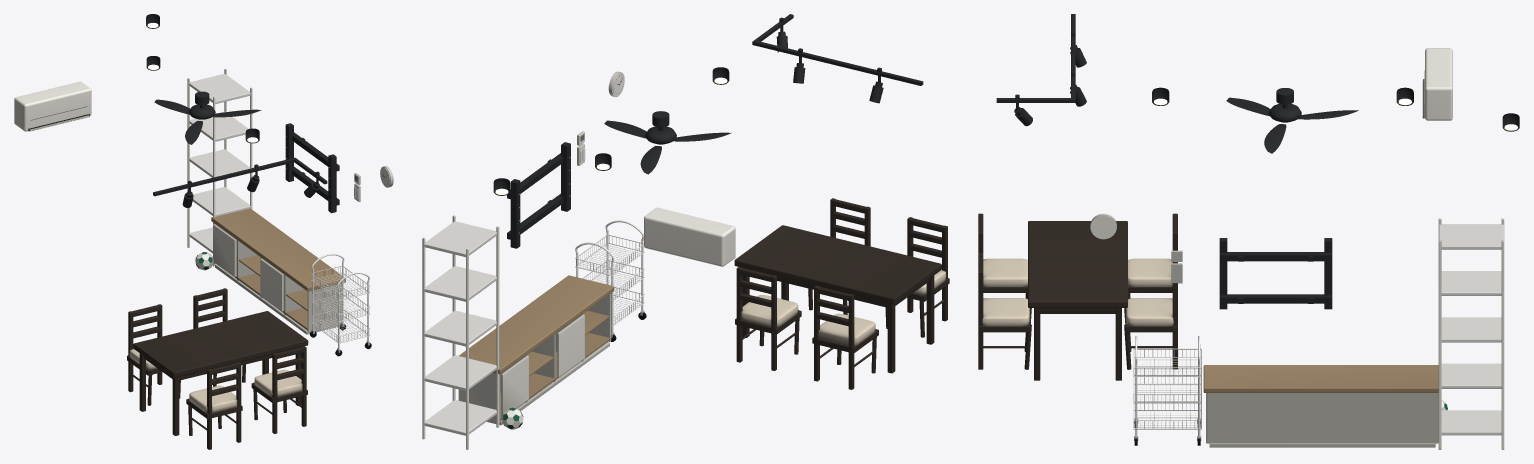
Rendered from hallway-refined.glb.
The picture shows the model from 3 angles, left to right: view 1: azimuth 30°, elevation 25°; view 2: azimuth 150°, elevation 25°; view 3: azimuth 270°, elevation 25°; orthographic projection. The views are drawn at different scales.
Visible parts, largest first — view 1: Hallway fixed dining set / Refined dark dining timber, Hallway fixed console shelf trolley / Refined white enamel, Hallway fixed console shelf trolley / Refined warm white pol, Hallway fixed console shelf trolley / Refined console oak ti, Hallway fixed lights and fan / Refined satin black enamel, Hallway fixed lights and fan / Refined warm white polymer, Hallway fixed dining set / Refined cream dining seat textile, Hallway fixed console shelf trolley / Refined satin black en; view 2: Hallway fixed dining set / Refined dark dining timber, Hallway fixed console shelf trolley / Refined white enamel, Hallway fixed console shelf trolley / Refined warm white pol, Hallway fixed console shelf trolley / Refined console oak ti, Hallway fixed lights and fan / Refined satin black enamel, Hallway fixed lights and fan / Refined warm white polymer, Hallway fixed console shelf trolley / Refined satin black en, Hallway fixed dining set / Refined cream dining seat textile; view 3: Hallway fixed console shelf trolley / Refined warm white pol, Hallway fixed dining set / Refined dark dining timber, Hallway fixed console shelf trolley / Refined white enamel, Hallway fixed console shelf trolley / Refined console oak ti, Hallway fixed dining set / Refined cream dining seat textile, Hallway fixed lights and fan / Refined satin black enamel, Hallway fixed console shelf trolley / Refined satin black en, Hallway fixed lights and fan / Refined warm white polymer, Hallway wall clock and controls / Refined warm white polymer.
Part boxes in pixels (<box>): Hallway fixed dining set / Refined dark dining timber: <box>127,288,308,449</box>; Hallway fixed console shelf trolley / Refined white enamel: <box>189,74,369,348</box>; Hallway fixed console shelf trolley / Refined warm white pol: <box>187,69,370,343</box>; Hallway fixed console shelf trolley / Refined console oak ti: <box>211,208,345,330</box>; Hallway fixed lights and fan / Refined satin black enamel: <box>28,14,327,207</box>; Hallway fixed lights and fan / Refined warm white polymer: <box>14,81,91,131</box>; Hallway fixed dining set / Refined cream dining seat textile: <box>129,348,302,412</box>; Hallway fixed console shelf trolley / Refined satin black en: <box>285,123,339,213</box>; Hallway fixed dining set / Refined dark dining timber: <box>734,198,949,389</box>; Hallway fixed console shelf trolley / Refined white enamel: <box>424,220,643,435</box>; Hallway fixed console shelf trolley / Refined warm white pol: <box>422,215,644,449</box>; Hallway fixed console shelf trolley / Refined console oak ti: <box>459,275,614,420</box>; Hallway fixed lights and fan / Refined satin black enamel: <box>493,14,923,195</box>; Hallway fixed lights and fan / Refined warm white polymer: <box>644,207,735,266</box>; Hallway fixed console shelf trolley / Refined satin black en: <box>507,142,570,248</box>; Hallway fixed dining set / Refined cream dining seat textile: <box>741,269,946,345</box>; Hallway fixed console shelf trolley / Refined warm white pol: <box>1133,218,1504,449</box>; Hallway fixed dining set / Refined dark dining timber: <box>978,213,1177,380</box>; Hallway fixed console shelf trolley / Refined white enamel: <box>1133,224,1504,436</box>; Hallway fixed console shelf trolley / Refined console oak ti: <box>1203,365,1438,392</box>; Hallway fixed dining set / Refined cream dining seat textile: <box>982,258,1173,326</box>; Hallway fixed lights and fan / Refined satin black enamel: <box>996,14,1519,153</box>; Hallway fixed console shelf trolley / Refined satin black en: <box>1219,238,1332,309</box>; Hallway fixed lights and fan / Refined warm white polymer: <box>1422,48,1452,120</box>; Hallway wall clock and controls / Refined warm white polymer: <box>1090,213,1182,283</box>.
Size of the model in its own units: 3.02 by 2.76 by 4.65.
